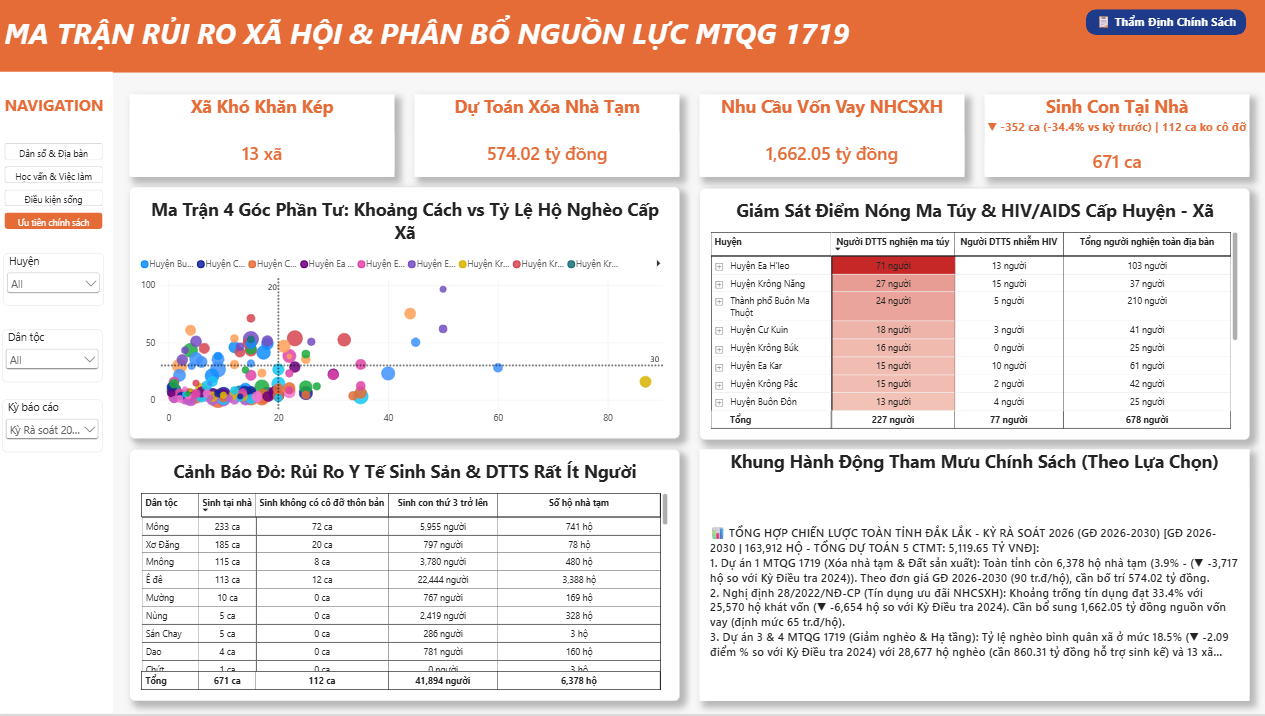

This screenshot's page, from the dashboard's own definition file:
{"tool":"powerbi","page":{"name":"Ưu tiên chính sách","canvas":[1920,1080],"ordinal":3},"visuals":[{"type":"shape","box":[0,0,1920,112.5],"z":0},{"type":"shape","box":[0,111.7,175,968.3],"z":1},{"type":"textbox","box":[11.7,145,163.3,40],"z":2},{"type":"pageNavigator","box":[11.7,219.4,148.3,131.7],"z":3},{"type":"slicer","fields":{"Values":["dim_dantoc.ten_dantoc"]},"box":[8.3,500,151.7,80],"z":4},{"type":"cardVisual","title":"Xã Khó Khăn Kép","fields":{"Data":["_Measures.Double Hardship Communes Count"]},"box":[200,145.7,400,125],"z":5},{"type":"textbox","box":[11.4,22.9,1878.6,90],"z":6},{"type":"slicer","fields":{"Values":["dim_diaban.ten_huyen"]},"box":[8.6,385.6,151.7,80],"z":7},{"type":"cardVisual","title":"Dự Toán Xóa Nhà Tạm","fields":{"Data":["_Measures.Recommended Housing Budget (Billion VND)"]},"box":[630,145.7,400,125],"z":8},{"type":"cardVisual","title":"Nhu Cầu Vốn Vay NHCSXH","fields":{"Data":["_Measures.Recommended Credit Fund (Billion VND)"]},"box":[1060,145.7,400,125],"z":9},{"type":"cardVisual","title":"Sinh Con Tại Nhà","fields":{"Data":["_Measures.Home Births Count"]},"box":[1490,145.7,400,125],"z":10},{"type":"scatterChart","title":"Ma Trận 4 Góc Phần Tư: Khoảng Cách vs Tỷ Lệ Hộ Nghèo Cấp Xã","fields":{"Category":["fact_hatang_xa.ten_xa"],"Series":["fact_hatang_xa.ten_huyen"],"Size":["Sum(fact_hatang_xa.tong_ho_dtts)"],"X":["Sum(fact_hatang_xa.km_den_trung_tam_huyen)"],"Y":["Sum(fact_hatang_xa.ty_le_ngheo_pct)"]},"box":[200,285.7,830,380],"z":11},{"type":"pivotTable","title":"Giám Sát Điểm Nóng Ma Túy & HIV/AIDS Cấp Huyện - Xã","fields":{"Rows":["dim_diaban.ten_huyen","dim_diaban.ten_xa"],"Values":["_Measures.Substance Abuse Count","_Measures.HIV Infection Count","_Measures.Total Substance Abuse Commune"]},"box":[1060,285.9,830,380],"z":12},{"type":"tableEx","title":"Cảnh Báo Đỏ: Rủi Ro Y Tế Sinh Sản & DTTS Rất Ít Người","fields":{"Values":["dim_dantoc.ten_dantoc","_Measures.Home Births Count","_Measures.Home Births Without Attendant","_Measures.3rd Child Plus Mothers Count","_Measures.Temporary House Count"]},"box":[200,681.4,830,380],"z":13},{"type":"cardVisual","title":"Khung Hành Động Tham Mưu Chính Sách (Theo Lựa Chọn)","fields":{"Data":["_Measures.Dynamic Policy Recommendation Text"]},"box":[1060,681,830,380],"z":14},{"type":"slicer","fields":{"Values":["dim_ky_baocao.ten_ky"]},"box":[8.3,605,151.7,80],"z":15},{"type":"actionButton","box":[1642.6,17.3,242.4,39],"z":16}]}

Visuals, with their boxes in screenshot pixels (x1, y1, x2, y2), scaled from the page's 1920x1080 canvas onto the 1265x716 screenshot:
shape: [x1=0, y1=0, x2=1264, y2=75]
shape: [x1=0, y1=74, x2=115, y2=715]
textbox: [x1=8, y1=96, x2=115, y2=123]
pageNavigator: [x1=8, y1=145, x2=105, y2=233]
slicer - dim_dantoc.ten_dantoc: [x1=5, y1=331, x2=105, y2=385]
"Xã Khó Khăn Kép" cardVisual: [x1=132, y1=97, x2=395, y2=179]
textbox: [x1=8, y1=15, x2=1245, y2=75]
slicer - dim_diaban.ten_huyen: [x1=6, y1=256, x2=106, y2=309]
"Dự Toán Xóa Nhà Tạm" cardVisual: [x1=415, y1=97, x2=679, y2=179]
"Nhu Cầu Vốn Vay NHCSXH" cardVisual: [x1=698, y1=97, x2=962, y2=179]
"Sinh Con Tại Nhà" cardVisual: [x1=982, y1=97, x2=1245, y2=179]
"Ma Trận 4 Góc Phần Tư: Khoảng Cách vs Tỷ Lệ Hộ Nghèo Cấp Xã" scatterChart: [x1=132, y1=189, x2=679, y2=441]
"Giám Sát Điểm Nóng Ma Túy & HIV/AIDS Cấp Huyện - Xã" pivotTable: [x1=698, y1=190, x2=1245, y2=441]
"Cảnh Báo Đỏ: Rủi Ro Y Tế Sinh Sản & DTTS Rất Ít Người" tableEx: [x1=132, y1=452, x2=679, y2=704]
"Khung Hành Động Tham Mưu Chính Sách (Theo Lựa Chọn)" cardVisual: [x1=698, y1=451, x2=1245, y2=703]
slicer - dim_ky_baocao.ten_ky: [x1=5, y1=401, x2=105, y2=454]
actionButton: [x1=1082, y1=11, x2=1242, y2=37]
